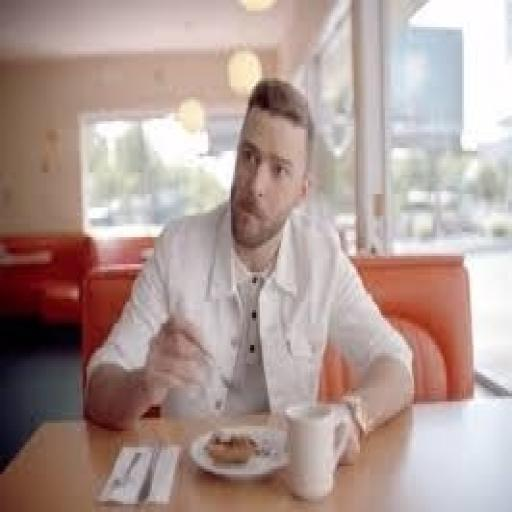eating: (81, 73, 416, 450)
